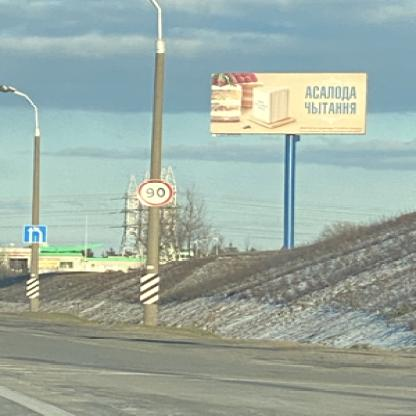speedlimit: (134, 179, 170, 204)
